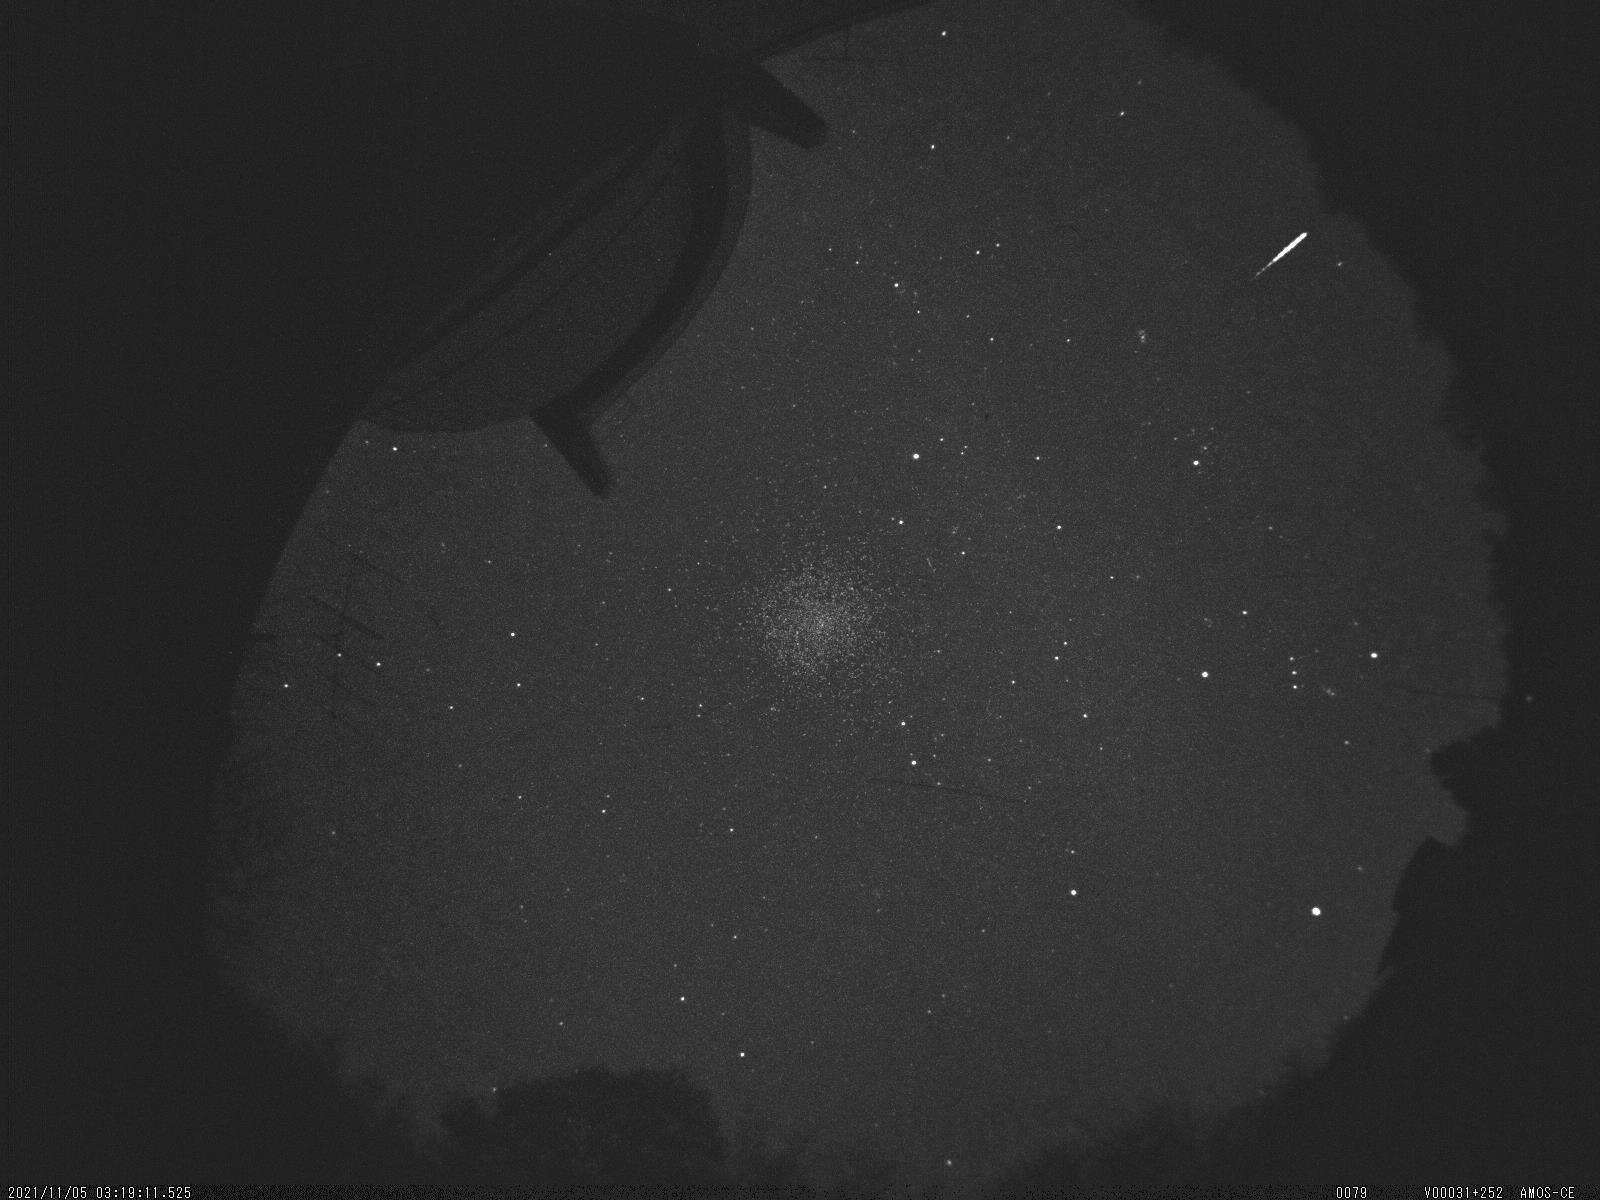Meteor: (1245, 223, 1317, 285)
